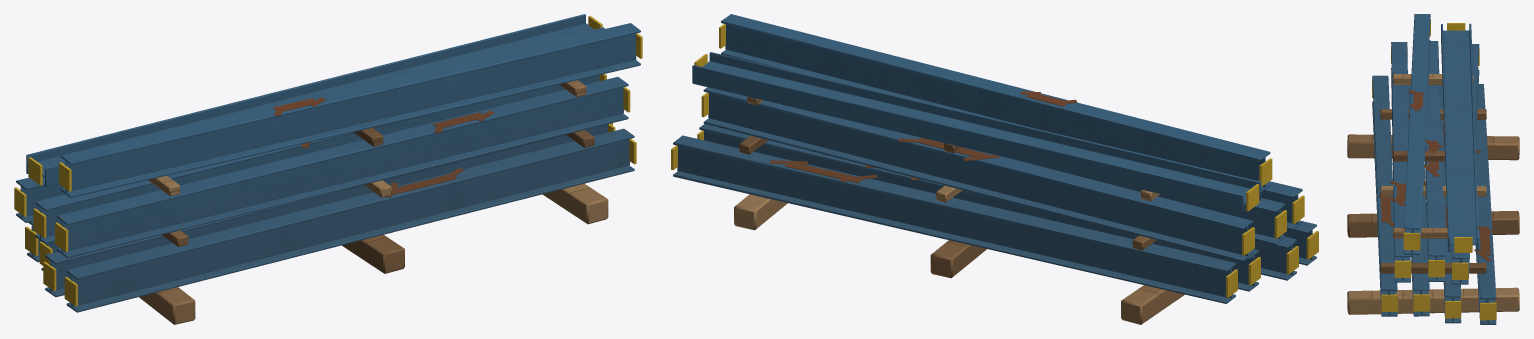
File: steel_beam_stack.glb
The picture shows the model from 3 angles, left to right: view 1: azimuth 30°, elevation 25°; view 2: azimuth 150°, elevation 25°; view 3: azimuth 270°, elevation 25°; orthographic projection. The views are drawn at different scales.
Parts seen in each view (by area): view 1: steel_beam_stack; view 2: steel_beam_stack; view 3: steel_beam_stack.
Boxes of the visible parts, x1=… form: steel_beam_stack: x1=14, y1=14, x2=642, y2=324; steel_beam_stack: x1=671, y1=14, x2=1318, y2=324; steel_beam_stack: x1=1347, y1=14, x2=1519, y2=324.
Size of the model in its own units: 5.23 by 1.24 by 1.71.
Materials: 9 (9 with a texture image).
